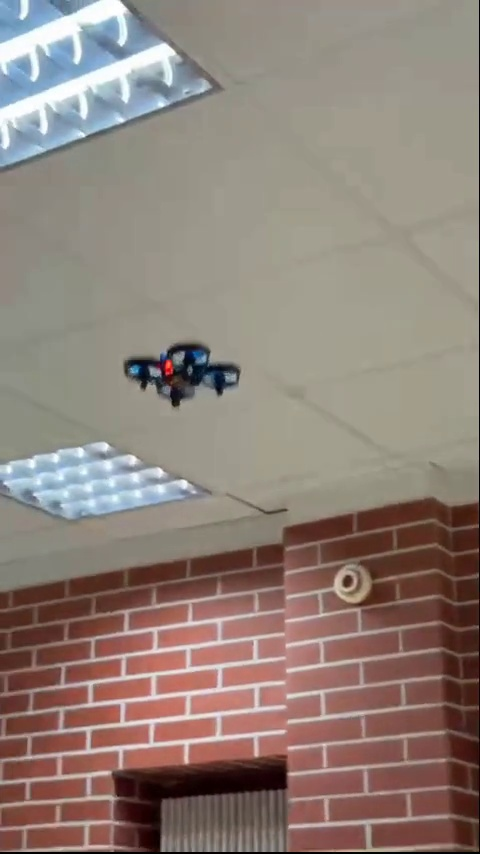drone: (125, 344, 236, 406)
